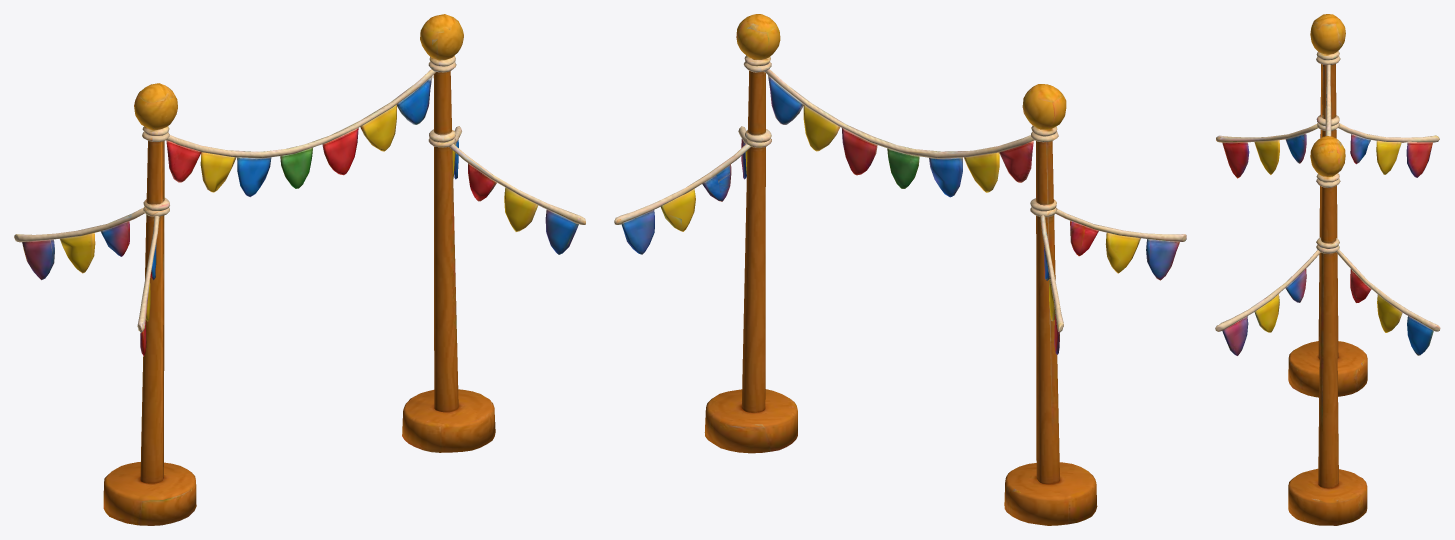
File: fest_arch.glb
3 renders of one model, left to right at view 1: azimuth 30°, elevation 25°; view 2: azimuth 150°, elevation 25°; view 3: azimuth 270°, elevation 25°, orthographic. The views are drawn at different scales.
Size of the model in its own units: 1 by 0.9046 by 0.5016.
1 material, 1 textured.
